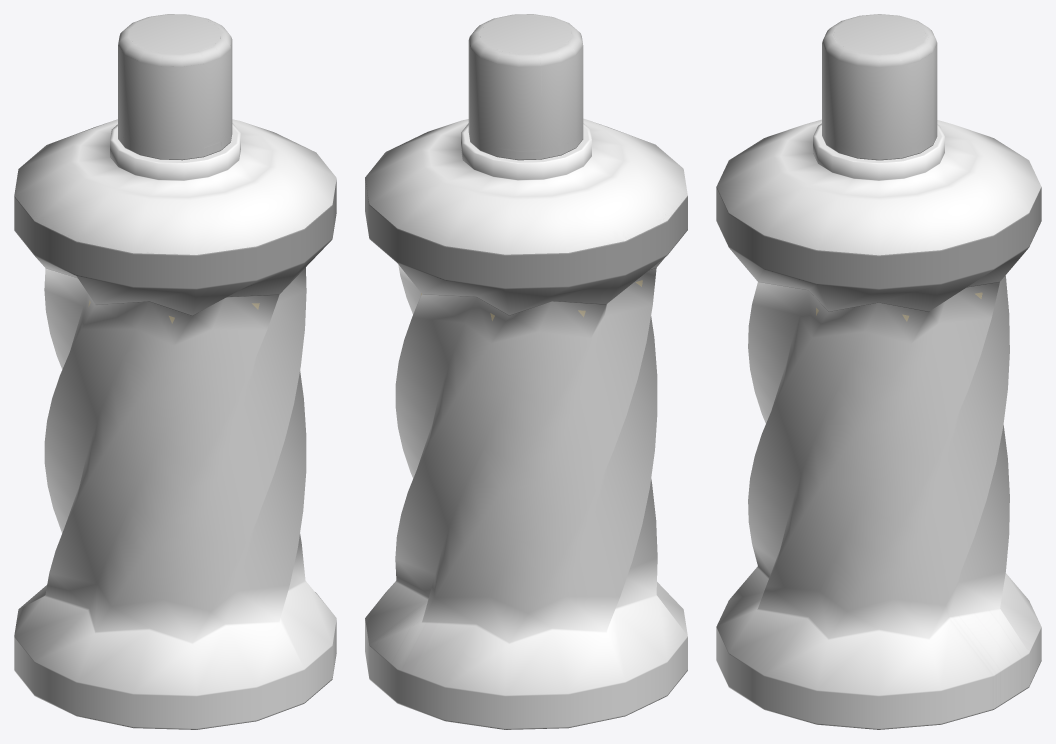
File: fit-scent.glb
The picture shows the model from 3 angles, left to right: view 1: azimuth 30°, elevation 25°; view 2: azimuth 150°, elevation 25°; view 3: azimuth 270°, elevation 25°; orthographic projection.
Bounding box in the file's own units: 0.0431 × 0.0917 × 0.0431.
4 materials, 3 textured.
